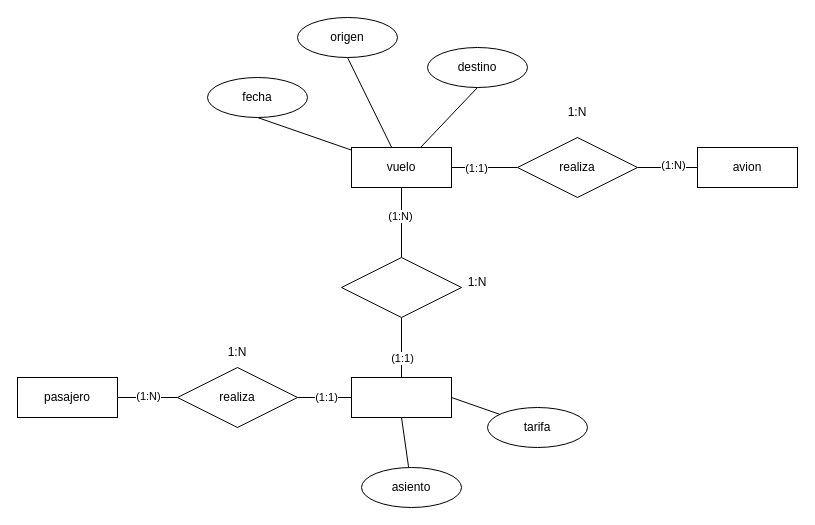
The diagram is 815 pixels wide and 525 high, and some of its shapes have lost their labels. Each missing label, with the centre of its shape:
"reserva" belongs at point 401,397.
"tiene" belongs at point 401,287.
